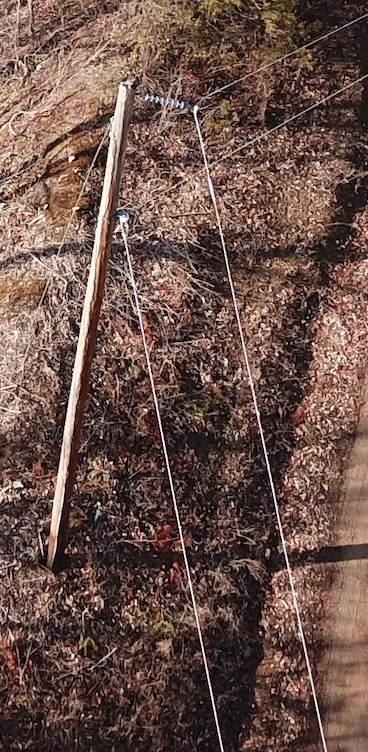pole: (72, 64, 174, 580)
